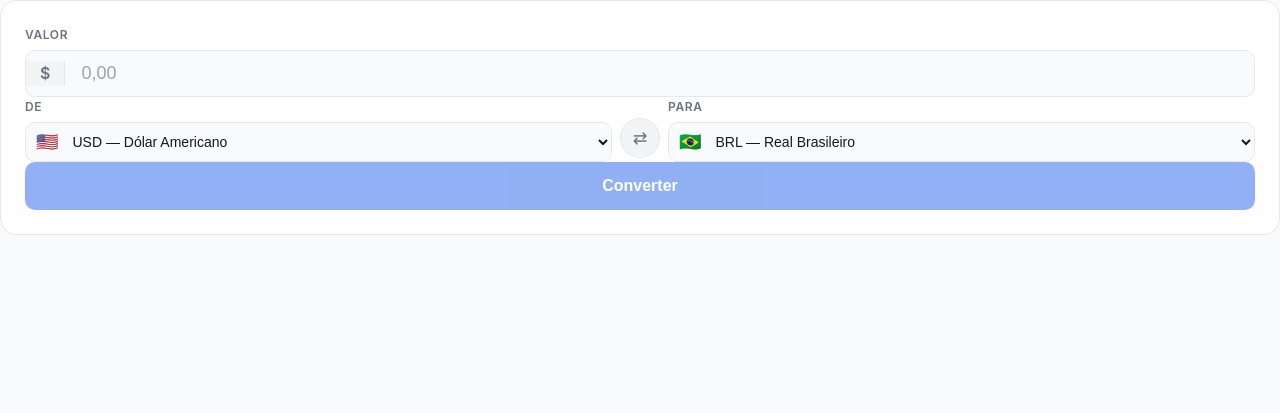
Test: Conversor › resultado de conversão › exibe o valor convertido após sucesso
This screenshot has width=1280, height=413.
Type "100" into the field with placeholder "0,00".
click(660, 74); type("100")  # box [65,51,1254,96]
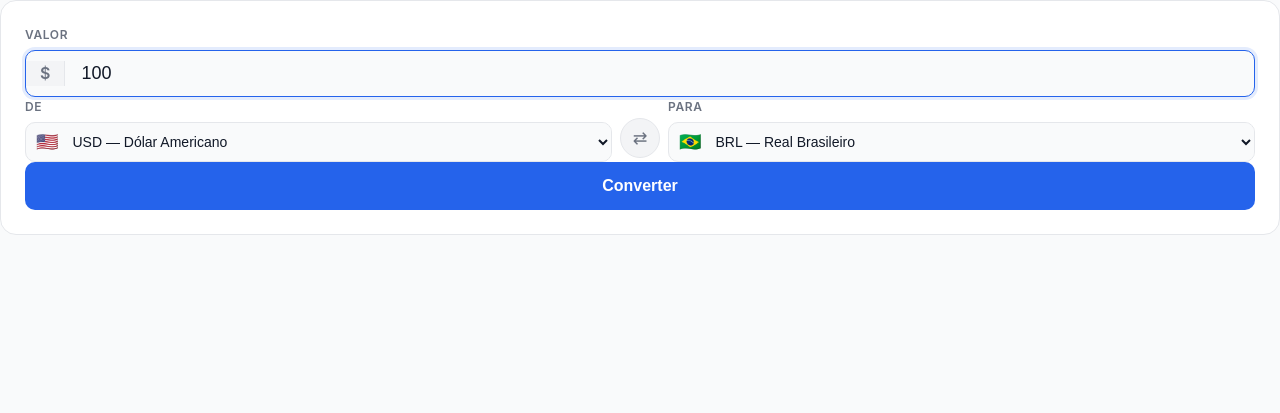
Click the button "Converter".
click(640, 186)  # box [25,162,1255,210]
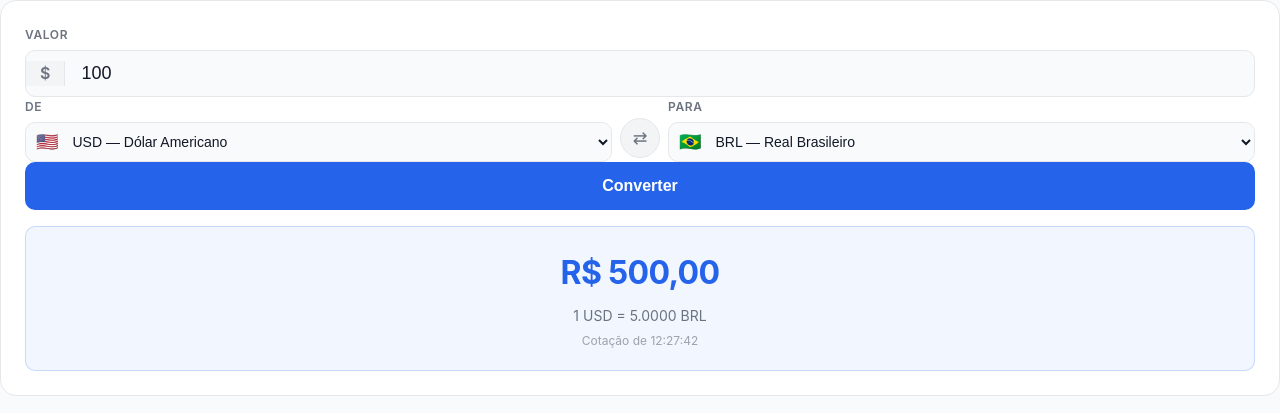
Expected: the message "R$ 500,00 1 USD = 5.0000 BRL Cotação de 12:27:42" is shown, [25,226,1255,371]
